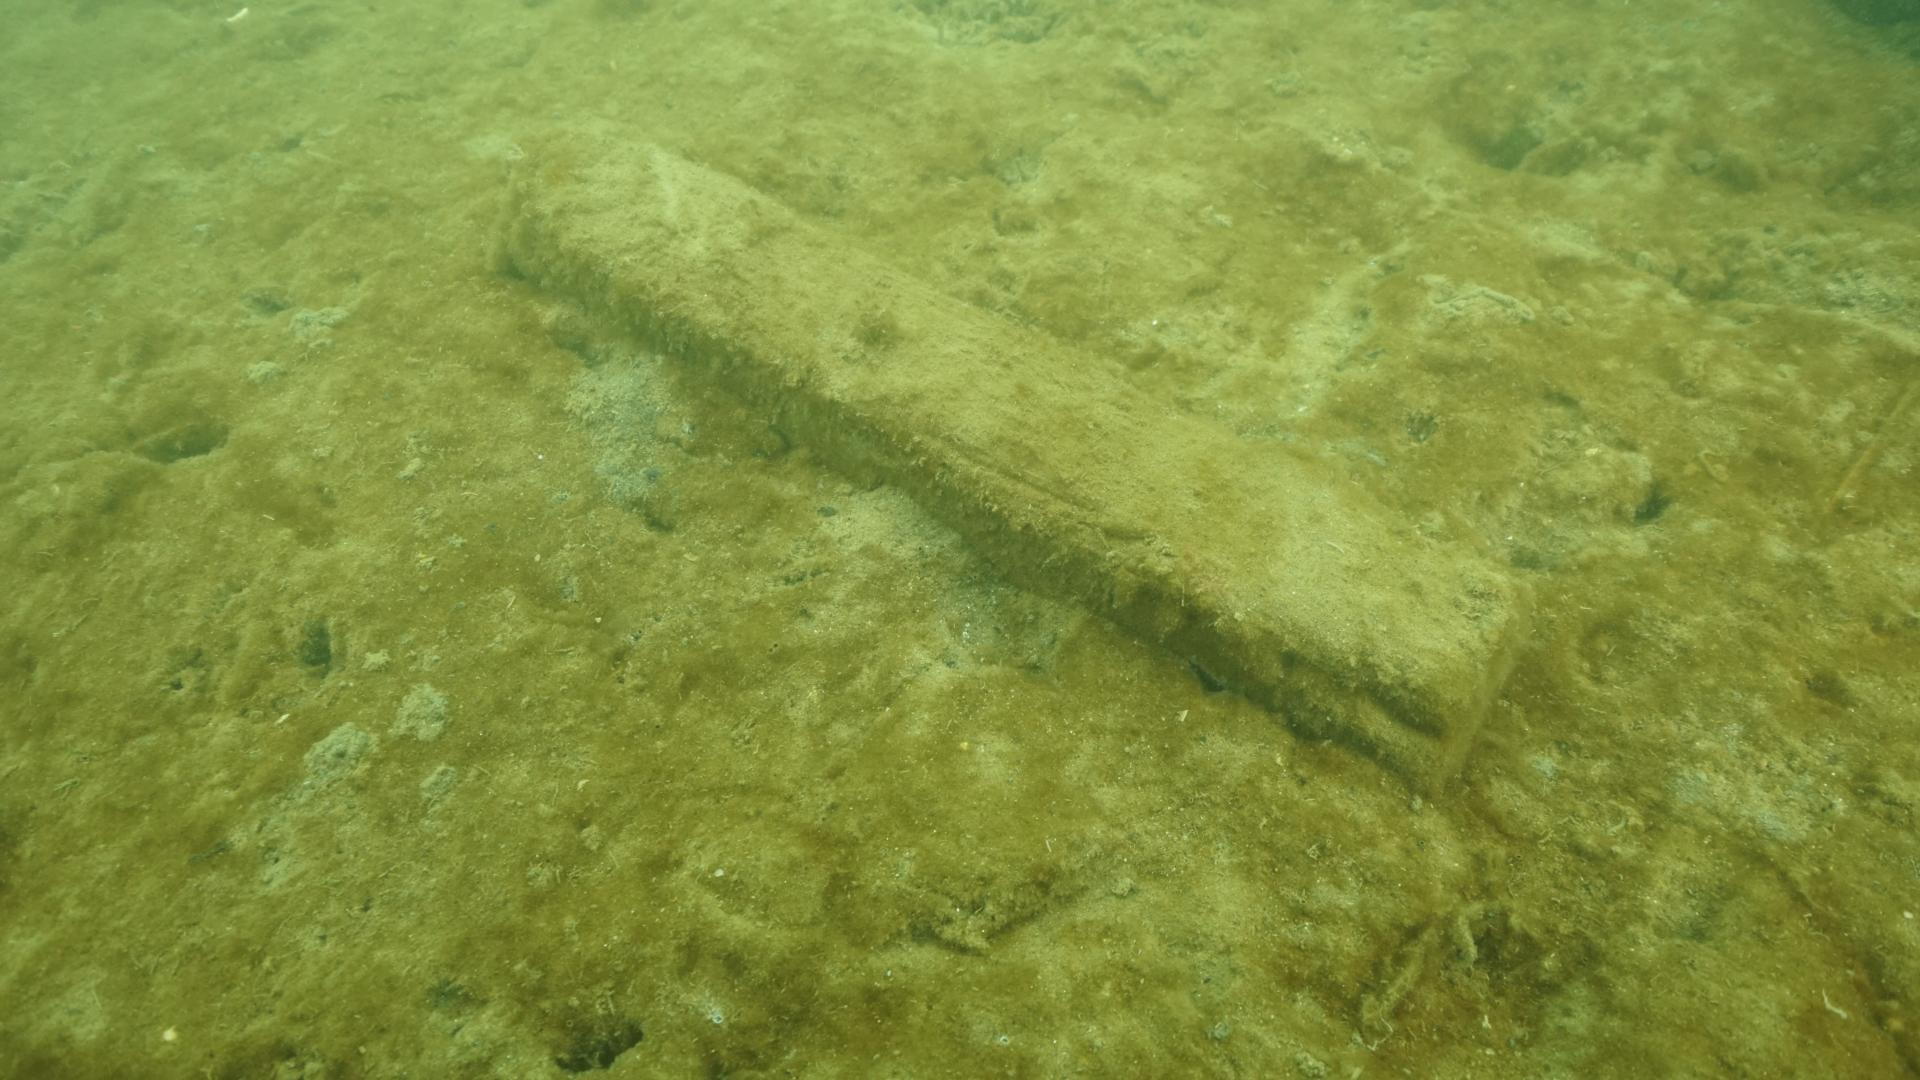wood: (483, 119, 1549, 802)
